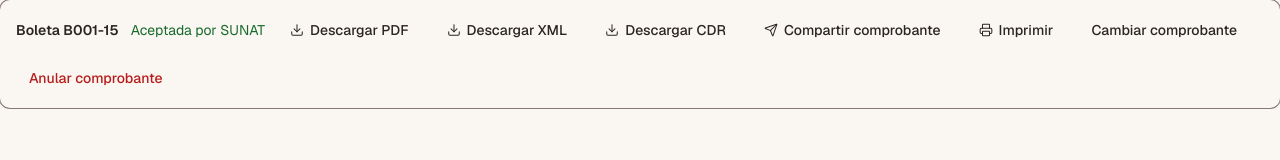
Test case: IssuedInvoice: compartir el PDF › si el navegador pide otro toque, deja el PDF listo y no lo vuelve a bajar
This screenshot has width=1280, height=160.
Click the button "Compartir comprobante" at (852, 30), box [751, 12, 954, 48]
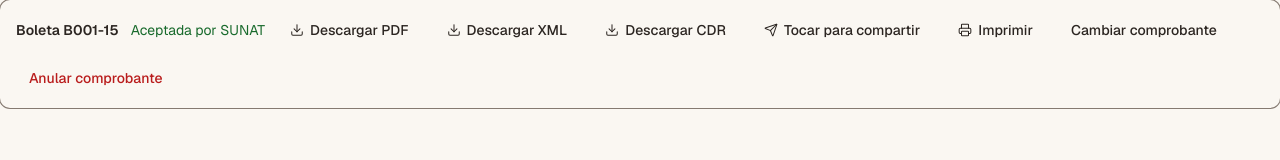
Click the button "Tocar para compartir" at (842, 30), box [751, 12, 933, 48]
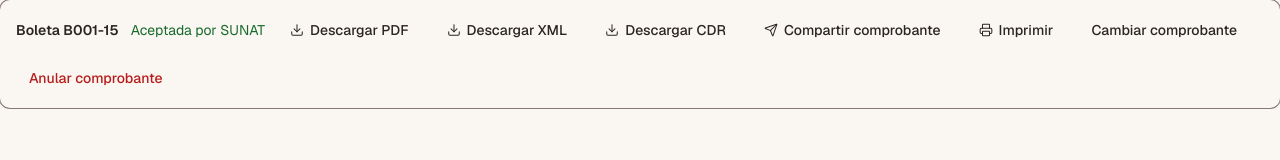
Expected: the button "Compartir comprobante" is shown, [751, 12, 954, 48]
